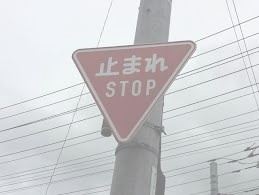Regulatory_sign_triangle: (68, 39, 206, 144)
